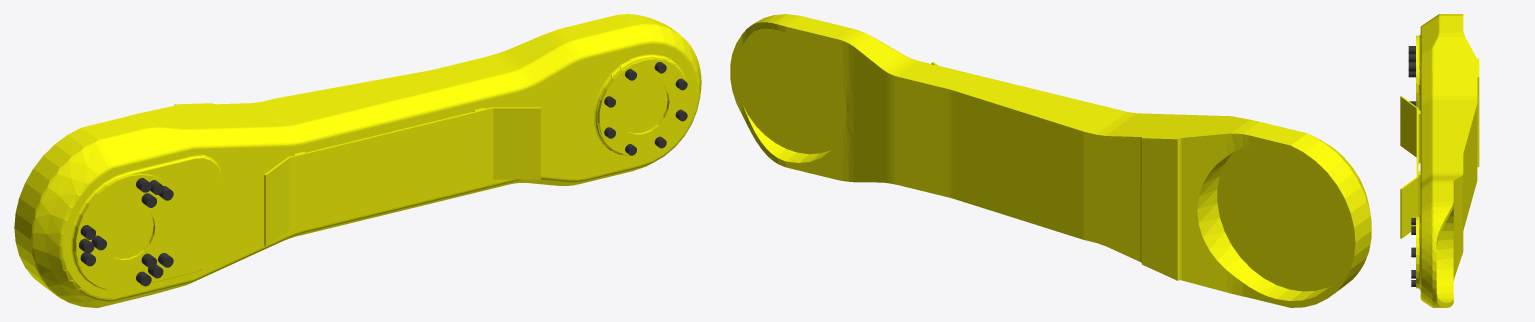
3 renders of one model, left to right at view 1: azimuth 30°, elevation 25°; view 2: azimuth 150°, elevation 25°; view 3: azimuth 270°, elevation 25°, orthographic. The views are drawn at different scales.
Visible parts, largest first — view 1: node; view 2: node; view 3: node.
Part boxes in pixels (x1=…): node: x1=14, y1=14, x2=701, y2=307; node: x1=730, y1=14, x2=1371, y2=307; node: x1=1400, y1=14, x2=1479, y2=307.
Size of the model in its own units: 996 by 240 by 226.
